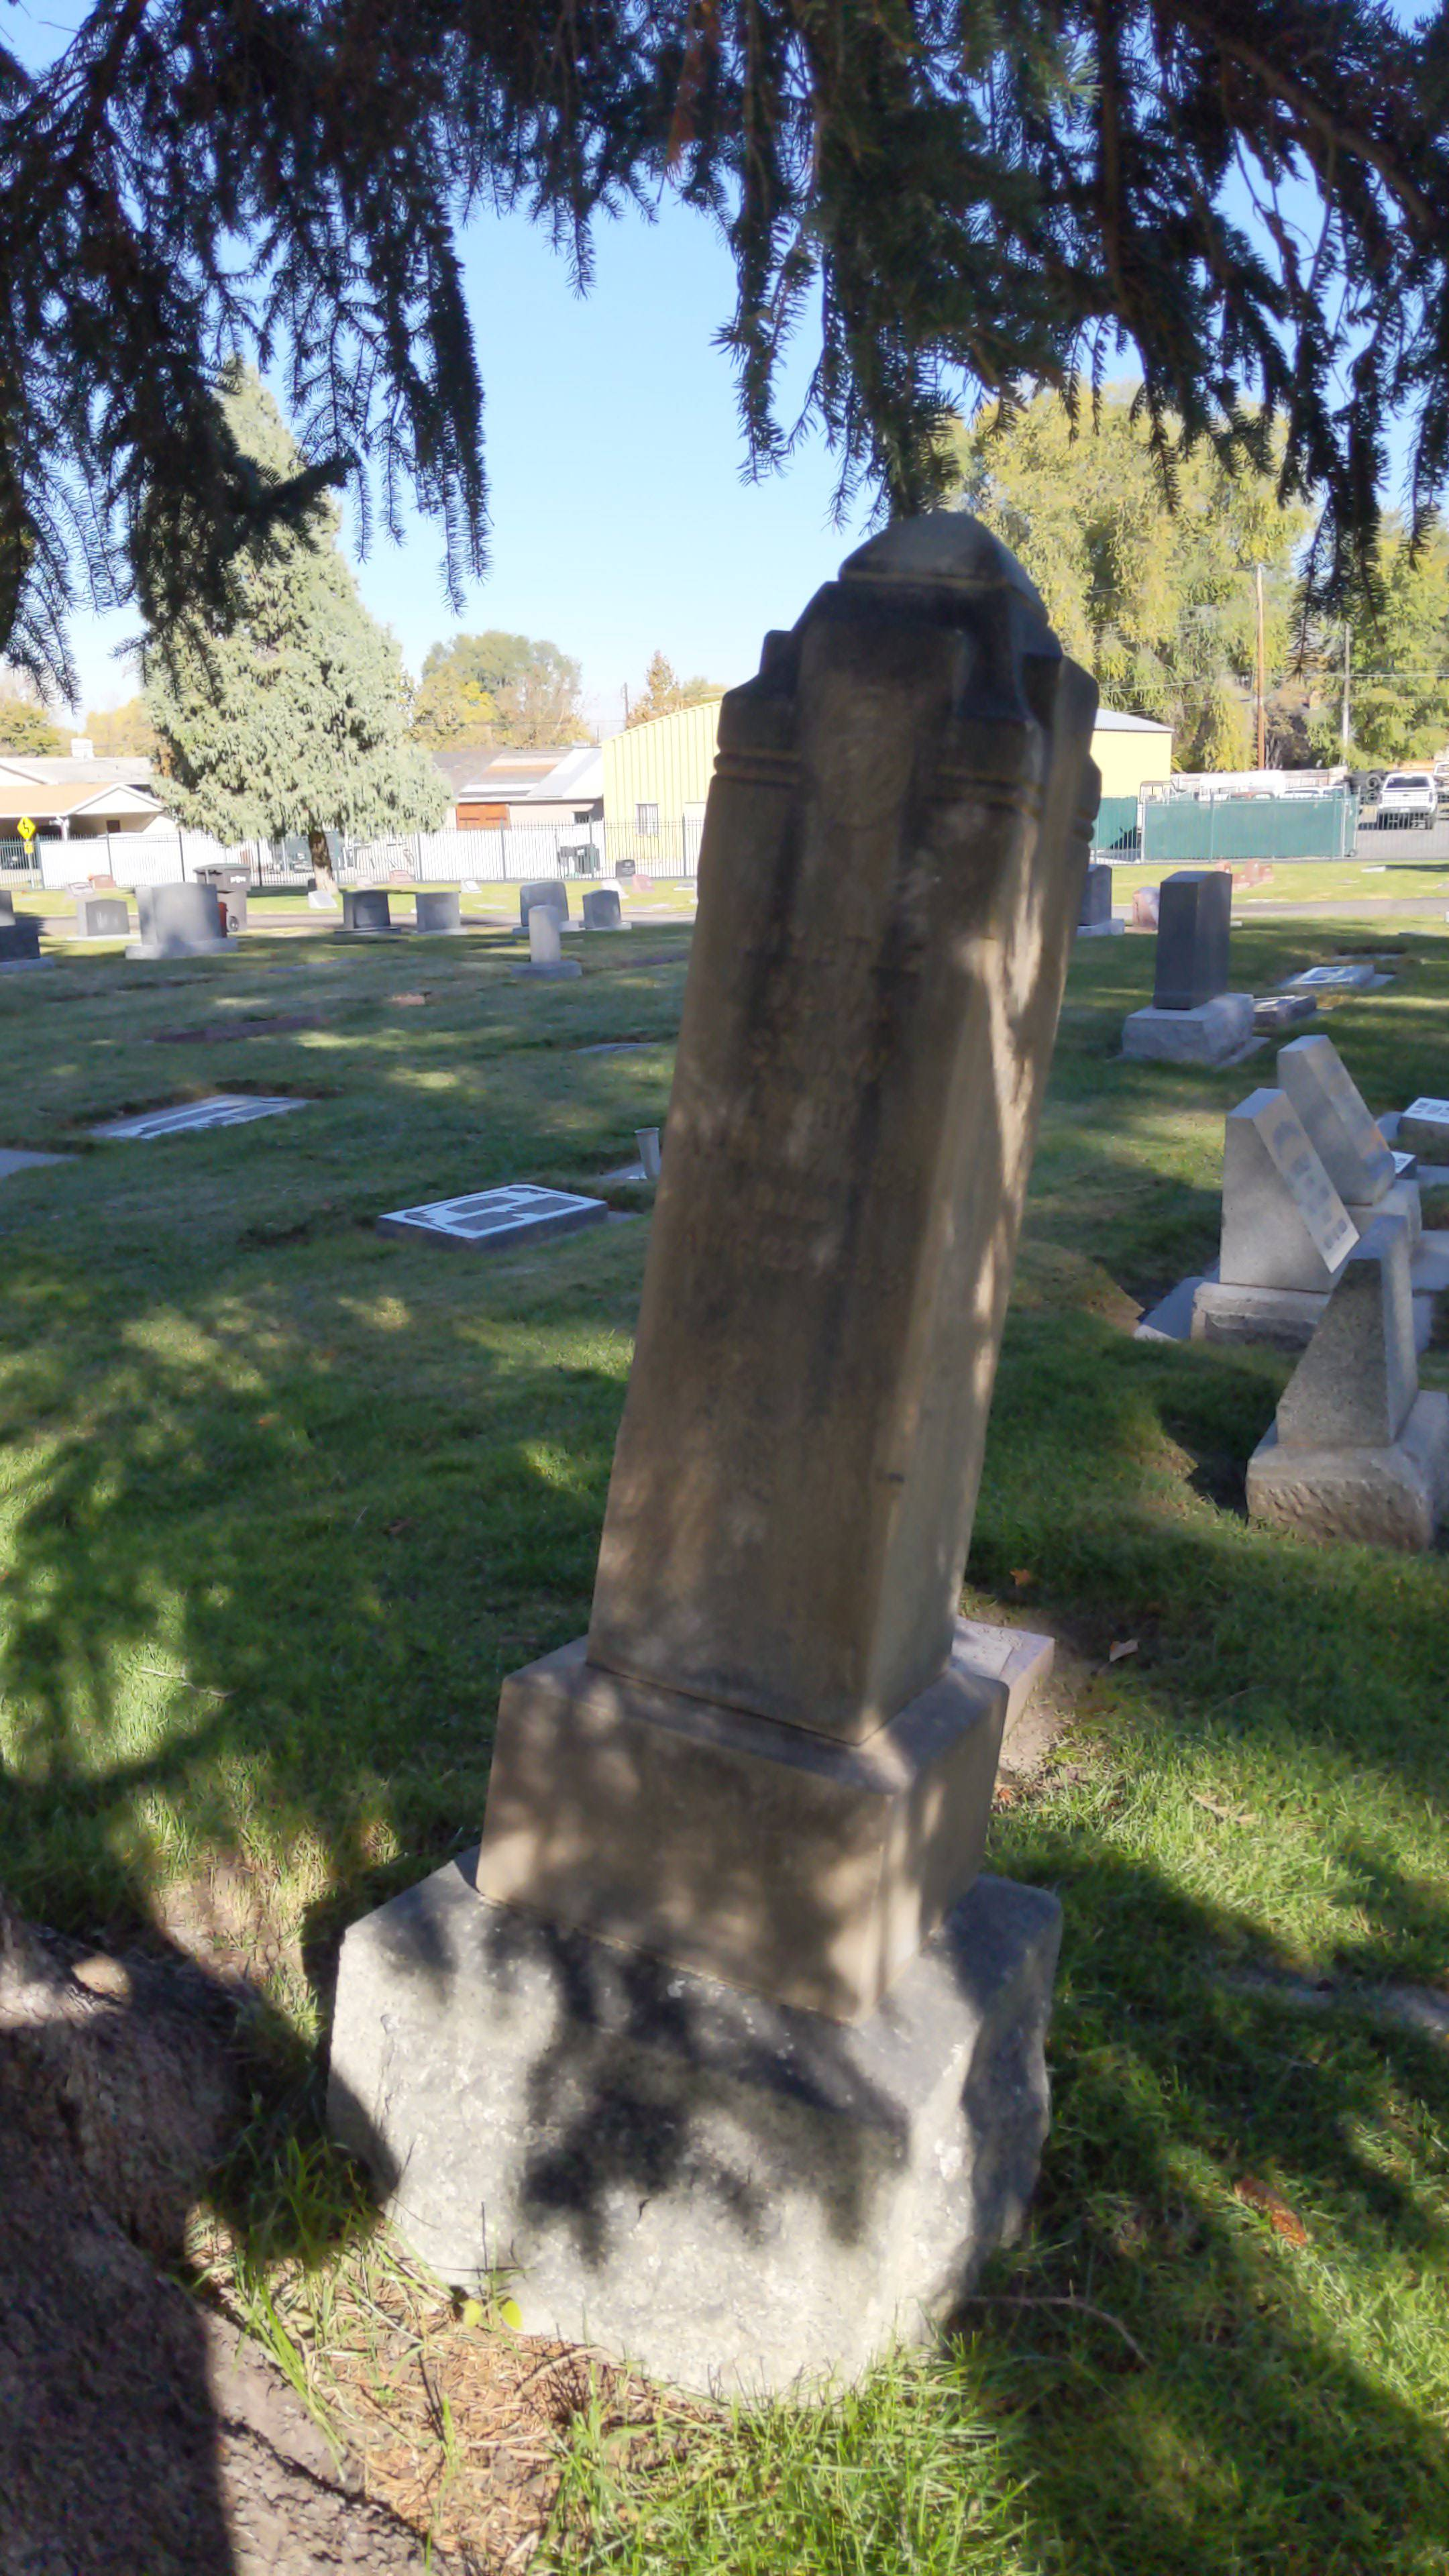obelisk: (474, 506, 1090, 2008)
